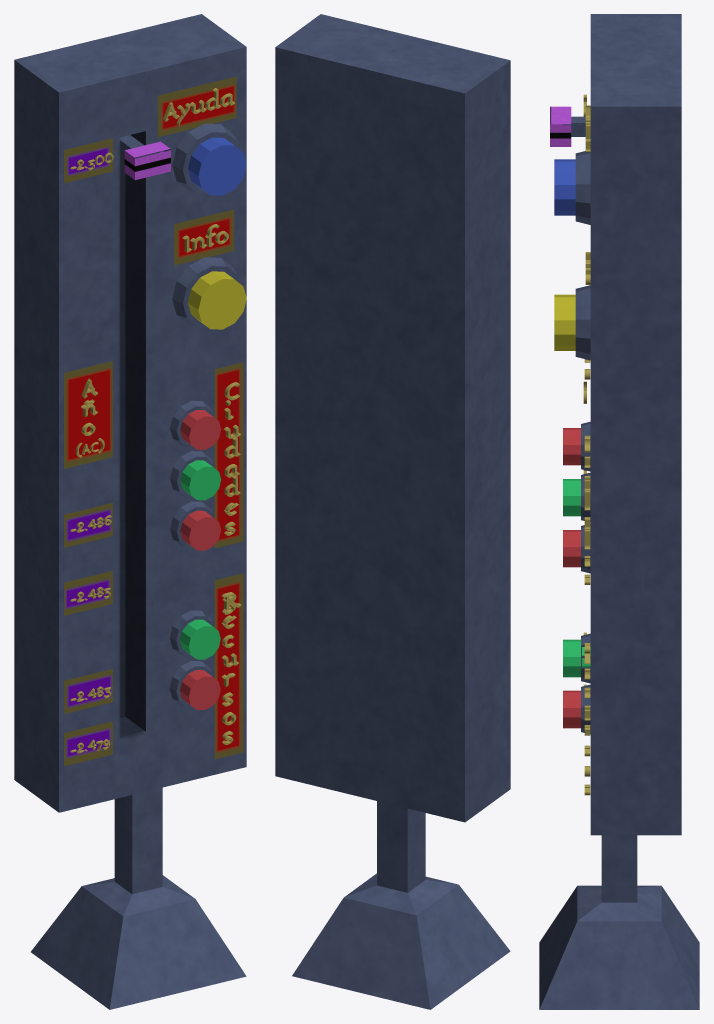
The model's file is menu.glb.
3 views of the same model, side by side, from view 1: azimuth 30°, elevation 25°; view 2: azimuth 150°, elevation 25°; view 3: azimuth 270°, elevation 25° (orthographic).
Visible parts, largest first — view 1: menu, button.info, button.help, Cube, button.resource.1, button.city.2, button.city.3, button.resource.2, button.city.1, rack.text.city, rack.text.resources, rack.text.help (+1 smaller); view 2: menu; view 3: menu, button.help, button.info, Cube, rack.text.city, button.resource.1, rack.text.resources, button.resource.2, button.city.1, button.city.2, button.city.3.
Part boxes in pixels (<box>): menu: <box>14,14,246,1009</box>; button.info: <box>188,271,246,329</box>; button.help: <box>188,137,246,195</box>; Cube: <box>120,135,170,180</box>; button.resource.1: <box>179,619,220,659</box>; button.city.2: <box>180,460,221,500</box>; button.city.3: <box>180,510,220,550</box>; button.resource.2: <box>180,670,220,709</box>; button.city.1: <box>180,410,221,449</box>; rack.text.city: <box>224,382,241,535</box>; rack.text.resources: <box>221,592,241,744</box>; rack.text.help: <box>163,88,234,126</box>; menu: <box>275,14,510,1009</box>; menu: <box>539,14,699,1009</box>; button.help: <box>554,159,575,215</box>; button.info: <box>554,294,575,350</box>; Cube: <box>550,106,585,146</box>; rack.text.city: <box>584,435,590,584</box>; button.resource.1: <box>563,639,590,677</box>; rack.text.resources: <box>584,643,590,795</box>; button.resource.2: <box>563,690,580,728</box>; button.city.1: <box>563,428,580,465</box>; button.city.2: <box>563,479,580,516</box>; button.city.3: <box>563,530,580,567</box>.
Bounding box in the file's own units: 2.74 × 12.62 × 2.
11 materials, 1 textured.
